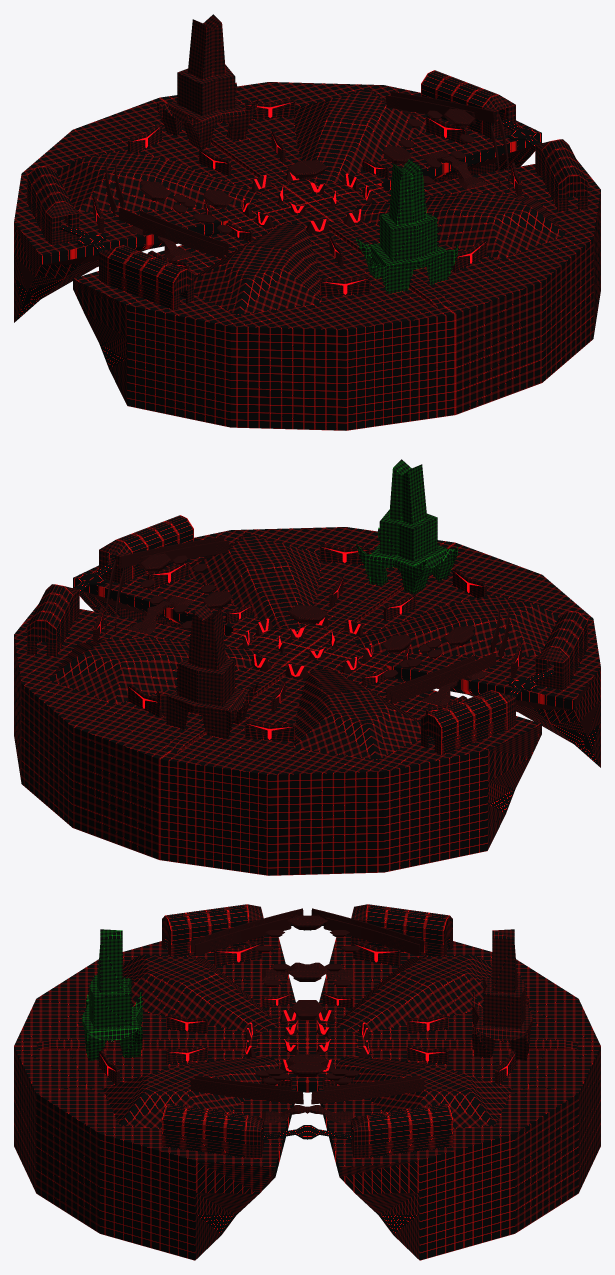
Rendered from World11.glb.
3 views of the same model, one above another, from view 1: azimuth 30°, elevation 25°; view 2: azimuth 150°, elevation 25°; view 3: azimuth 270°, elevation 25° (orthographic).
Parts seen in each view (by area): view 1: Cylinder, BossRamp, Cube.007, TowerB, TowerA, Cube, Wall.002, Cube.005, Cube.006, Wall.003, Wall.001, Cube.001 (+5 smaller); view 2: Cylinder, BossRamp, Cube.007, TowerA, TowerB, Cube, Wall.002, Cube.005, Cube.006, Wall.003, Wall.001, Cube.001 (+5 smaller); view 3: Cylinder, BossRamp, Cube.007, Cube, TowerA, TowerB, Cube.005, Wall.001, Wall.003, Cube.006, Wall.004, Platform.004 (+7 smaller).
Part boxes in pixels (x1=…): Cylinder: x1=14, y1=82, x2=600, y2=430; BossRamp: x1=56, y1=88, x2=566, y2=314; Cube.007: x1=27, y1=70, x2=587, y2=309; TowerB: x1=355, y1=159, x2=457, y2=293; TowerA: x1=157, y1=14, x2=259, y2=149; Cube: x1=105, y1=91, x2=509, y2=258; Wall.002: x1=128, y1=98, x2=486, y2=296; Cube.005: x1=211, y1=127, x2=450, y2=307; Cube.006: x1=126, y1=150, x2=488, y2=260; Wall.003: x1=93, y1=115, x2=521, y2=269; Wall.001: x1=199, y1=131, x2=343, y2=266; Cube.001: x1=251, y1=170, x2=363, y2=233; Cylinder: x1=14, y1=527, x2=600, y2=875; BossRamp: x1=48, y1=533, x2=558, y2=759; Cube.007: x1=27, y1=515, x2=587, y2=754; TowerA: x1=157, y1=604, x2=259, y2=738; TowerB: x1=355, y1=459, x2=457, y2=594; Cube: x1=105, y1=536, x2=509, y2=703; Wall.002: x1=128, y1=543, x2=486, y2=741; Cube.005: x1=164, y1=572, x2=403, y2=752; Cube.006: x1=126, y1=595, x2=488, y2=705; Wall.003: x1=93, y1=560, x2=521, y2=714; Wall.001: x1=271, y1=576, x2=415, y2=711; Cube.001: x1=251, y1=615, x2=363, y2=678; Cylinder: x1=14, y1=935, x2=600, y2=1260; BossRamp: x1=103, y1=955, x2=511, y2=1128; Cube.007: x1=162, y1=904, x2=452, y2=1158; Cube: x1=190, y1=908, x2=424, y2=1104; TowerA: x1=472, y1=929, x2=533, y2=1060; TowerB: x1=81, y1=929, x2=142, y2=1060; Cube.005: x1=36, y1=1039, x2=578, y2=1049; Wall.001: x1=166, y1=1014, x2=448, y2=1064; Wall.003: x1=214, y1=941, x2=400, y2=1118; Cube.006: x1=261, y1=962, x2=353, y2=1122; Wall.004: x1=261, y1=992, x2=353, y2=1089; Platform.004: x1=287, y1=915, x2=327, y2=1076.
Size of the model in its own units: 269 by 109 by 275.
Materials: 4 (2 with a texture image).
